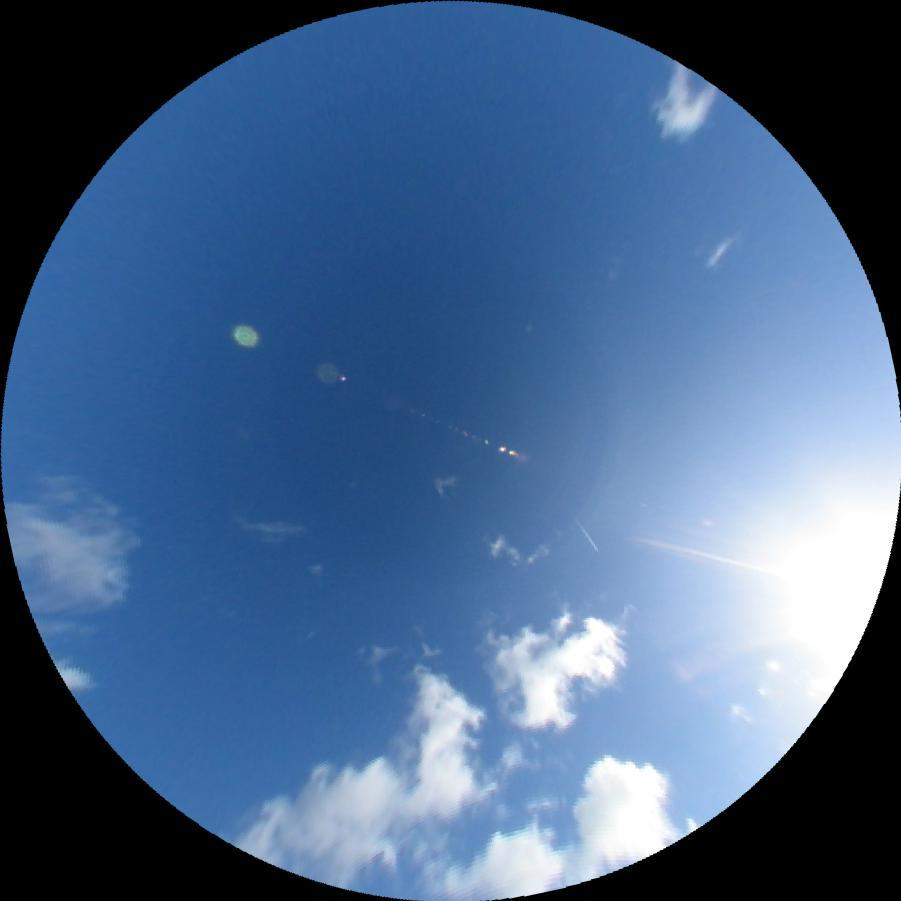contrail young: (567, 512, 601, 554)
parasite: (630, 529, 783, 580)
sun: (761, 486, 901, 659)
